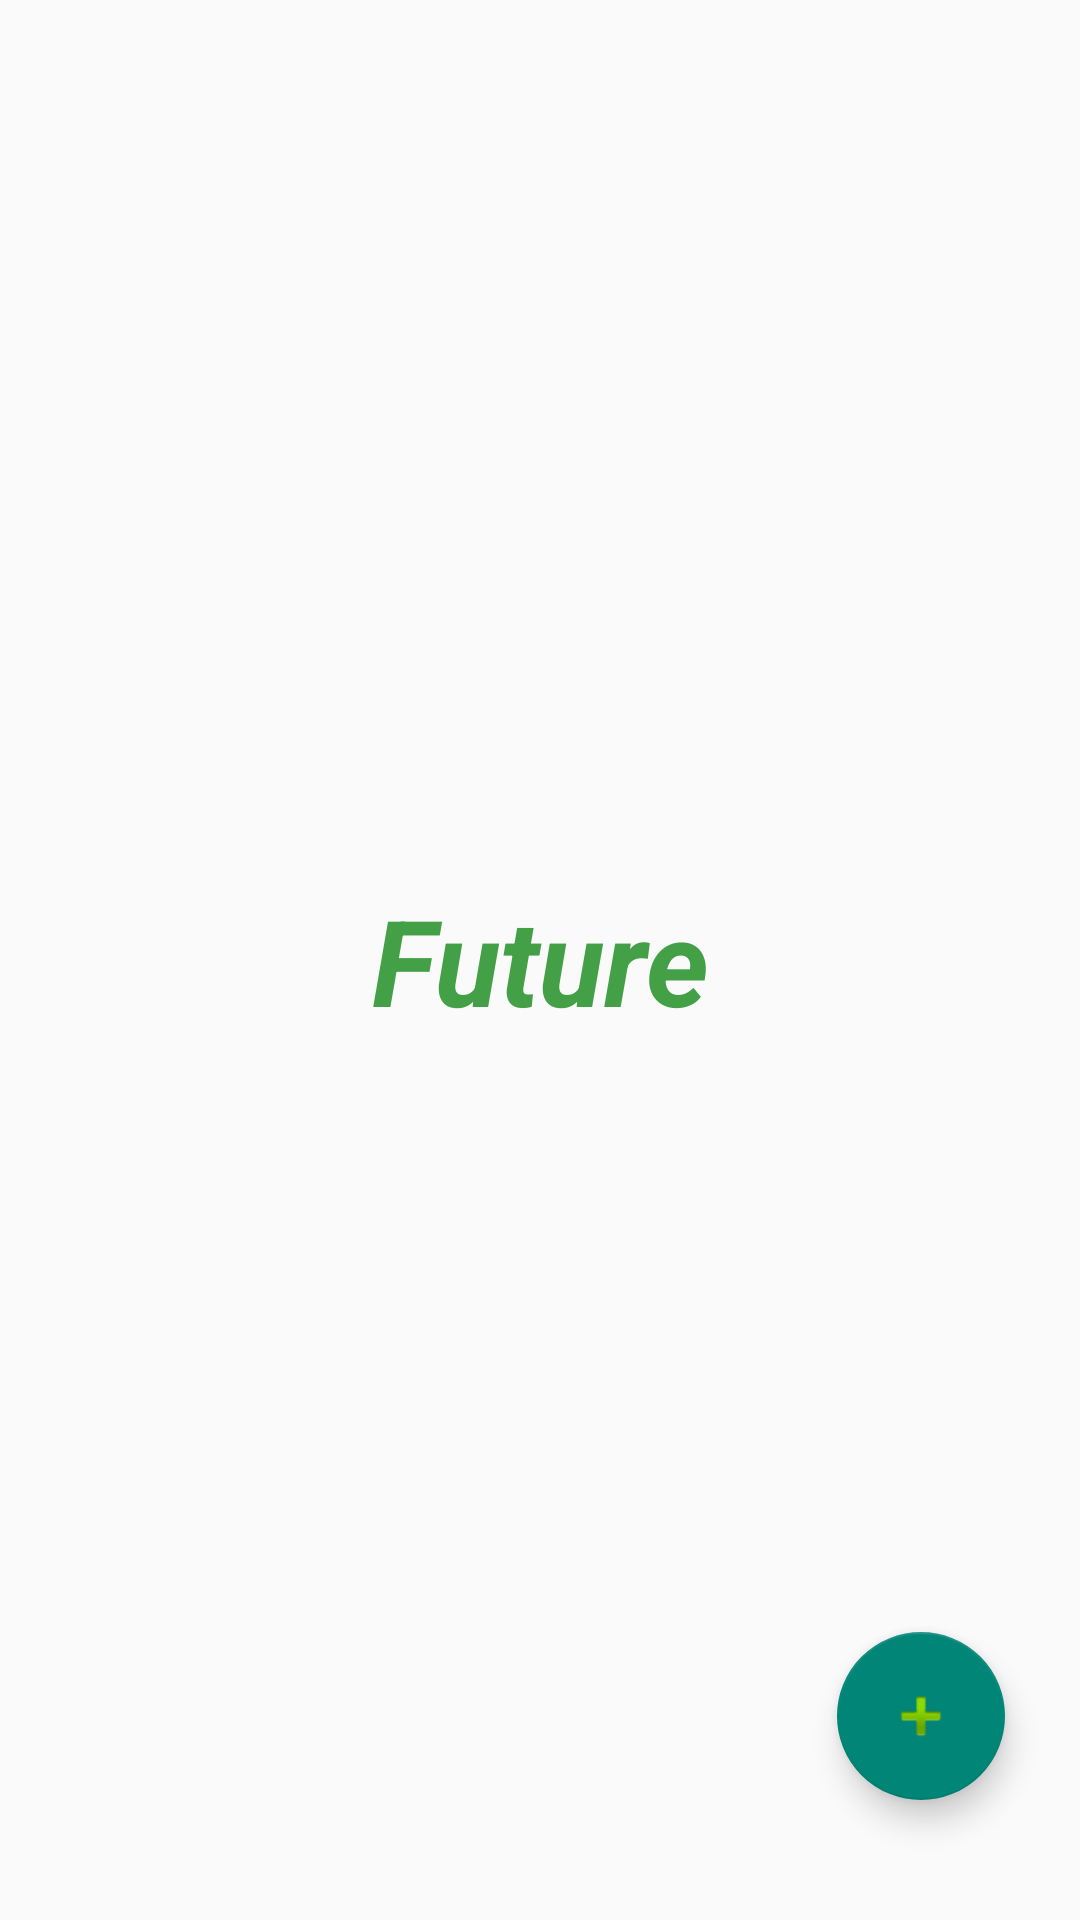

Icons on this 1080*1920 Android screen, each with its box as (x1, y1, x2, y2):
add: (837, 1632, 1005, 1800)
